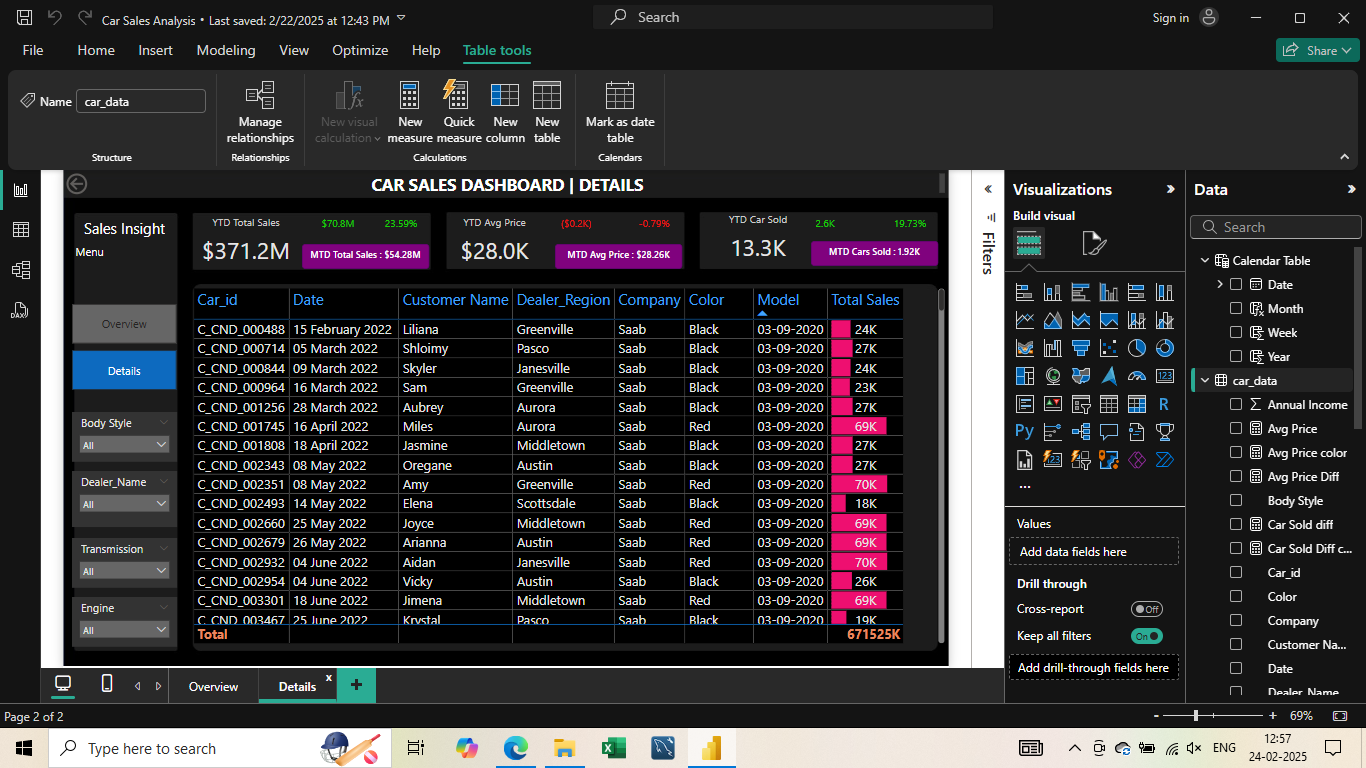

What the dashboard file says about the page in this screenshot:
{"tool":"powerbi","page":{"name":"Details","canvas":[1280,720],"ordinal":1},"visuals":[{"type":"card","title":"YTD Total Sales","fields":{"Values":["car_data.YTPD Total Sales"]},"box":[183.6,65.1,161.9,82.4],"z":0},{"type":"card","title":"Sales Difference","fields":{"Values":["car_data.Sales Difference"]},"box":[357.1,65.1,81,28.9],"z":1000},{"type":"card","title":"Sales Difference","fields":{"Values":["car_data.YoY Sales Growth"]},"box":[448.2,65.1,81,28.9],"z":2000},{"type":"card","fields":{"Values":["car_data.MTP KPI"]},"box":[345.5,107,183.6,36.1],"z":3000},{"type":"card","title":"YTD Avg Price","fields":{"Values":["car_data.YTD Avg Price"]},"box":[536.4,65.1,174.9,82.4],"z":4000},{"type":"card","title":"Sales Difference","fields":{"Values":["car_data.Avg Price Diff"]},"box":[701.2,65.1,81,28.9],"z":5000},{"type":"card","title":"Sales Difference","fields":{"Values":["car_data.YoY Avg Price"]},"box":[814,65.1,81,28.9],"z":6000},{"type":"card","fields":{"Values":["car_data.MTD Avg Price KPI"]},"box":[711.3,107,183.6,36.1],"z":7000},{"type":"card","title":"YTD Car Sold","fields":{"Values":["car_data.YTD Cars Sold"]},"box":[923.9,60.7,161.9,82.4],"z":8000},{"type":"card","title":"Sales Difference","fields":{"Values":["car_data.Car Sold diff"]},"box":[1061.2,65.1,81,28.9],"z":9000},{"type":"card","title":"Sales Difference","fields":{"Values":["car_data.YoY Car Sold Growth"]},"box":[1184.1,65.1,81,28.9],"z":10000},{"type":"card","fields":{"Values":["car_data.MTD Cars Sold KPI"]},"box":[1081.4,102.7,183.6,36.1],"z":11000},{"type":"textbox","box":[13,0,1266.5,40.5],"z":16000},{"type":"slicer","fields":{"Values":["car_data.Body Style"]},"box":[13,349.9,151.8,72.3],"z":18000},{"type":"slicer","fields":{"Values":["car_data.Dealer_Name"]},"box":[13,435.2,151.8,81],"z":19000},{"type":"slicer","fields":{"Values":["car_data.Transmission"]},"box":[13,532,151.8,72.3],"z":20000},{"type":"slicer","fields":{"Values":["car_data.Engine"]},"box":[13,617.3,151.8,72.3],"z":21000},{"type":"tableEx","fields":{"Values":["car_data.Car_id","car_data.Date","car_data.Customer Name","car_data.Dealer_Region","car_data.Company","car_data.Color","car_data.Model","car_data.Price ($)"]},"box":[183.6,166.3,1095.9,523.4],"z":21001},{"type":"actionButton","box":[0,0,100,40],"z":21003},{"type":"pageNavigator","box":[13,193.7,151.8,124.3],"z":21004},{"type":"textbox","box":[13,65.1,151.8,41.9],"z":21005},{"type":"textbox","box":[13,102.7,122.9,36.1],"z":21006}]}

Visuals, with their boxes on the page's 1280x720 design canvas (x1, y1, x2, y2). These are canvas units, not pixel positions in the 1366x768 screenshot, which may show the page scaled, cropped or inside an application window:
"YTD Total Sales" card: 184 65 346 148
"Sales Difference" card: 357 65 438 94
"Sales Difference" card: 448 65 529 94
card - car_data.MTP KPI: 346 107 529 143
"YTD Avg Price" card: 536 65 711 148
"Sales Difference" card: 701 65 782 94
"Sales Difference" card: 814 65 895 94
card - car_data.MTD Avg Price KPI: 711 107 895 143
"YTD Car Sold" card: 924 61 1086 143
"Sales Difference" card: 1061 65 1142 94
"Sales Difference" card: 1184 65 1265 94
card - car_data.MTD Cars Sold KPI: 1081 103 1265 139
textbox: 13 0 1280 40
slicer - car_data.Body Style: 13 350 165 422
slicer - car_data.Dealer_Name: 13 435 165 516
slicer - car_data.Transmission: 13 532 165 604
slicer - car_data.Engine: 13 617 165 690
tableEx - car_data.Car_id x car_data.Date: 184 166 1280 690
actionButton: 0 0 100 40
pageNavigator: 13 194 165 318
textbox: 13 65 165 107
textbox: 13 103 136 139
